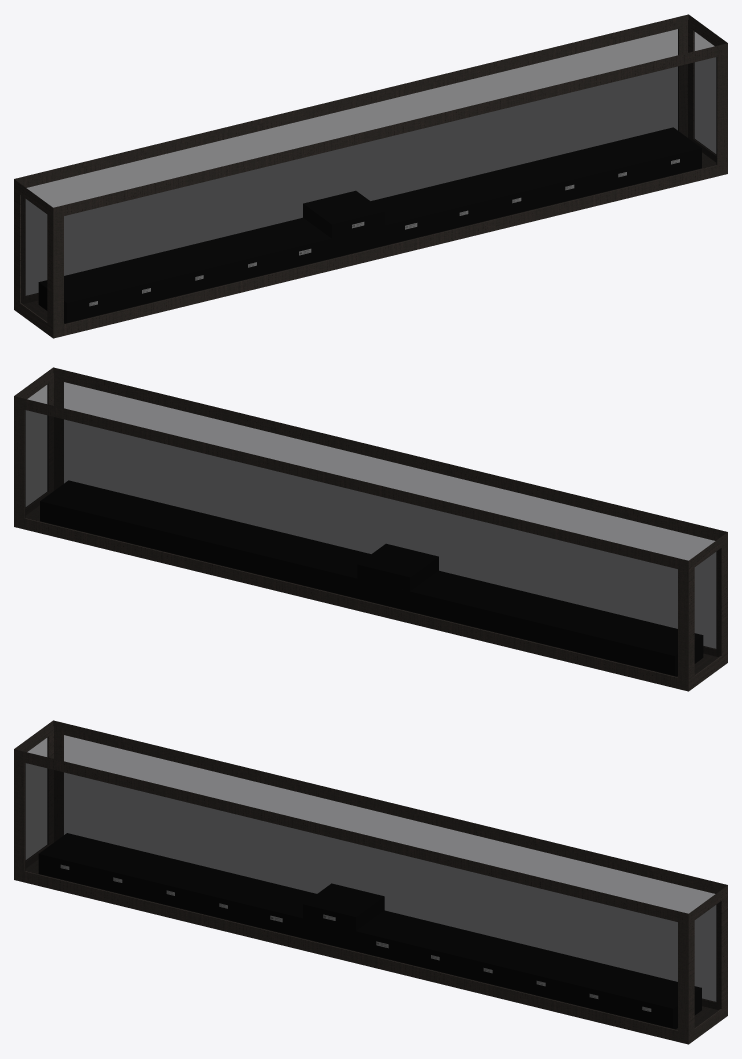
The model's file is ReyesEu_VitrinaEuropa.fbx.
The picture shows the model from 3 angles, top to bottom: view 1: azimuth 30°, elevation 25°; view 2: azimuth 150°, elevation 25°; view 3: azimuth 330°, elevation 25°; orthographic projection.
Parts seen in each view (by area): view 1: GlassVitrina, VitrinaCopas, Pedestal; view 2: GlassVitrina, VitrinaCopas, Pedestal; view 3: GlassVitrina, VitrinaCopas, Pedestal.
Boxes of the visible parts, x1,y1,x2,y2 form: GlassVitrina: (21, 29, 716, 324); VitrinaCopas: (14, 14, 727, 338); Pedestal: (38, 127, 701, 323); GlassVitrina: (25, 382, 720, 677); VitrinaCopas: (14, 367, 727, 691); Pedestal: (40, 480, 703, 676); GlassVitrina: (25, 735, 720, 1030); VitrinaCopas: (14, 720, 727, 1044); Pedestal: (38, 833, 701, 1029).
Size of the model in its own units: 992 by 184 by 100.
Materials: 4 (2 with a texture image).
